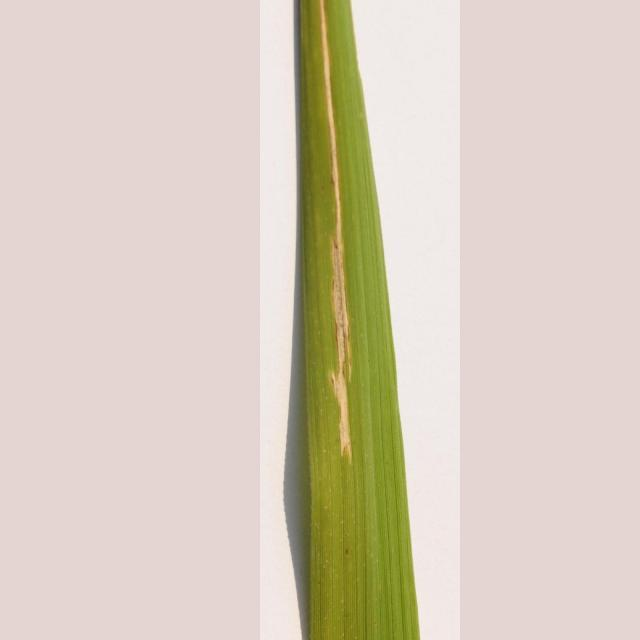leaf blight: (292, 1, 383, 458)
